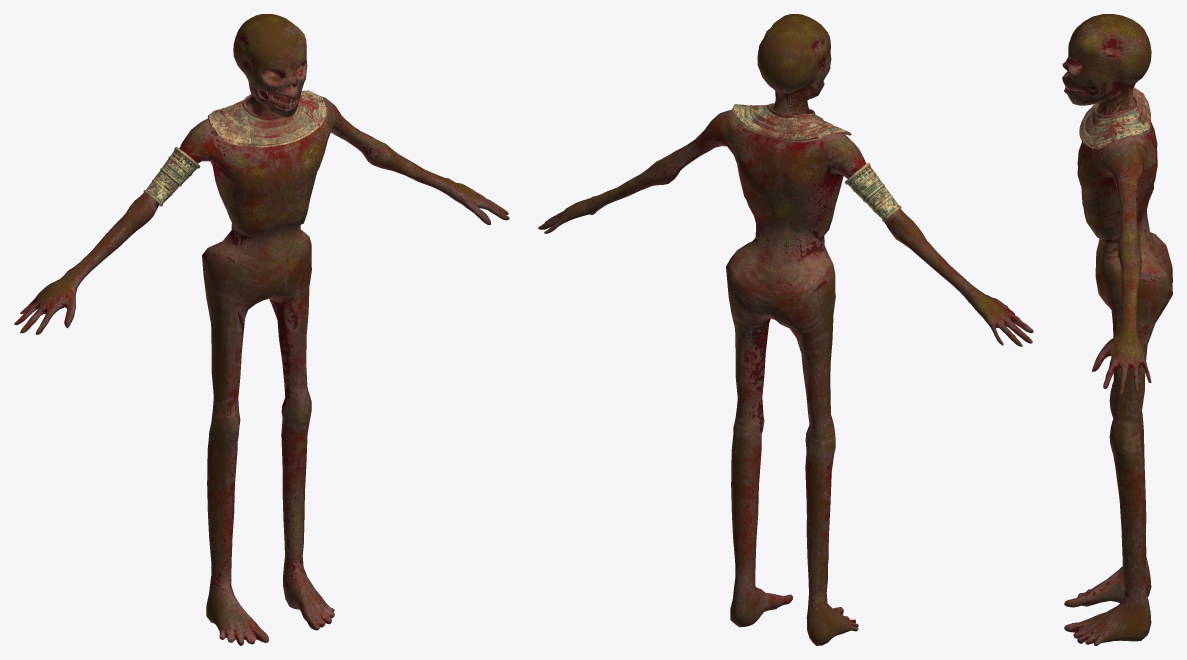
The model's file is mummyA.glb.
The picture shows the model from 3 angles, left to right: view 1: azimuth 30°, elevation 25°; view 2: azimuth 150°, elevation 25°; view 3: azimuth 270°, elevation 25°; orthographic projection.
Visible parts, largest first — view 1: Object_5, Object_3, Object_2; view 2: Object_5, Object_3, Object_2; view 3: Object_5, Object_3.
Boxes of the visible parts, x1,y1,x2,y2 form: Object_5: [14, 14, 509, 645]; Object_3: [207, 90, 327, 147]; Object_2: [143, 147, 200, 206]; Object_5: [538, 14, 1033, 645]; Object_3: [732, 103, 851, 142]; Object_2: [844, 162, 901, 222]; Object_5: [1062, 14, 1172, 645]; Object_3: [1079, 87, 1150, 149].
Size of the model in its own units: 1.37 by 1.62 by 0.2694.
4 materials, 4 textured.
